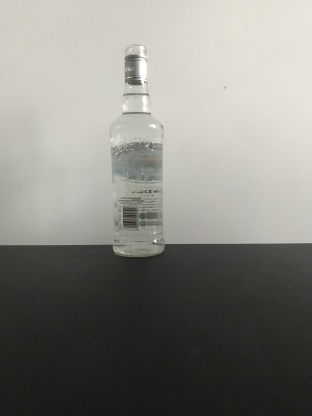nakretka: (122, 43, 149, 85)
